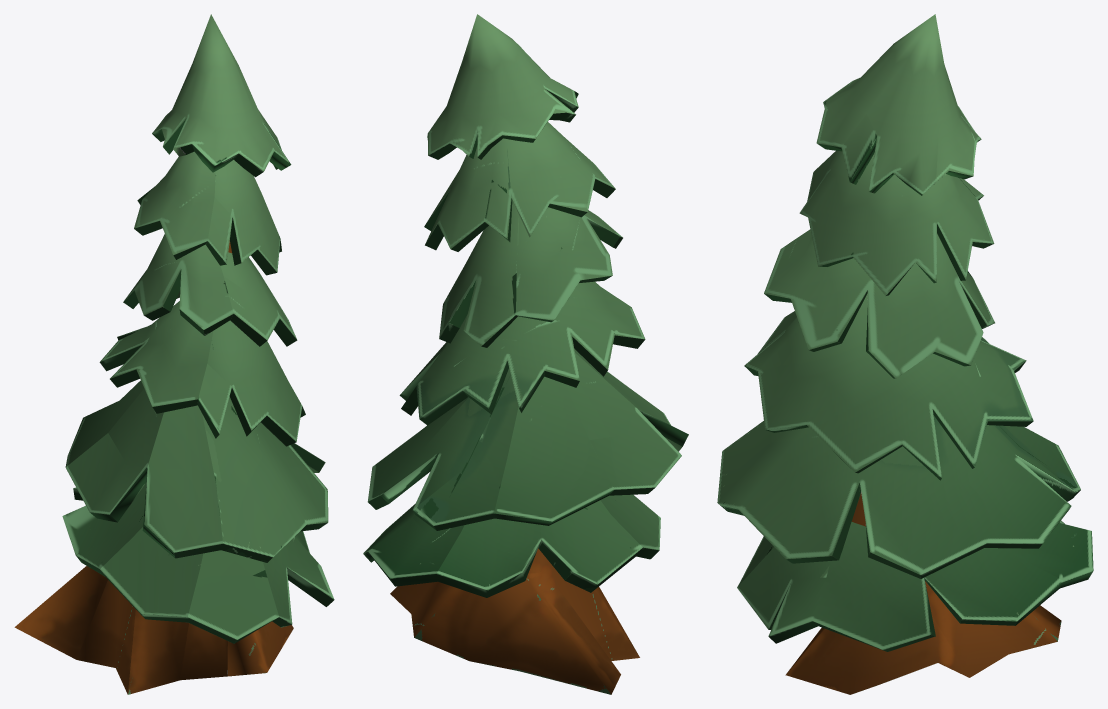
File: tree.fbx
The picture shows the model from 3 angles, left to right: view 1: azimuth 30°, elevation 25°; view 2: azimuth 150°, elevation 25°; view 3: azimuth 270°, elevation 25°; orthographic projection. The views are drawn at different scales.
Visible parts, largest first — view 1: Tree.003; view 2: Tree.003; view 3: Tree.003.
Part boxes in pixels (<box>): Tree.003: <box>14,14,334,694</box>; Tree.003: <box>363,14,688,694</box>; Tree.003: <box>717,14,1093,694</box>.
Size of the model in its own units: 389 by 919 by 456.
1 material, 1 textured.
